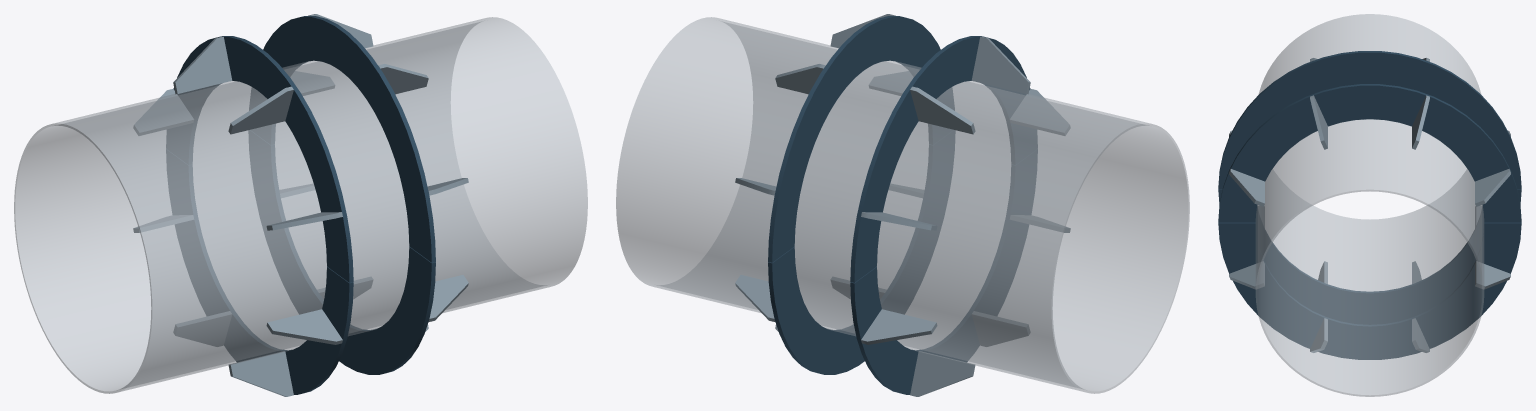
File: TS-666.00.00-17-opora-dn920-D1220.glb
3 views of the same model, side by side, from view 1: azimuth 30°, elevation 25°; view 2: azimuth 150°, elevation 25°; view 3: azimuth 270°, elevation 25° (orthographic). The views are drawn at different scales.
Visible parts, largest first — view 1: truba, polukoltso_1, polukoltso_11, polukoltso_16, polukoltso_6, rebro_8, rebro_18, rebro_17, rebro_7, rebro_9, rebro_19, rebro_12 (+3 smaller); view 2: truba, polukoltso_1, polukoltso_11, polukoltso_16, polukoltso_6, rebro_9, rebro_19, rebro_20, rebro_10, rebro_8, rebro_18, rebro_15 (+3 smaller); view 3: truba, polukoltso_1, polukoltso_11, polukoltso_6, polukoltso_16, rebro_2, rebro_5, rebro_12, rebro_15, rebro_3, rebro_4, rebro_13 (+1 smaller).
Part boxes in pixels (x1,y1,x2,y2): truba: (14, 17, 587, 393); polukoltso_1: (249, 16, 435, 262); polukoltso_11: (248, 130, 435, 374); polukoltso_16: (166, 149, 353, 394); polukoltso_6: (166, 36, 353, 282); rebro_8: (173, 36, 232, 94); rebro_18: (228, 351, 293, 396); rebro_17: (266, 309, 342, 344); rebro_7: (133, 88, 193, 135); rebro_9: (228, 86, 293, 134); rebro_19: (173, 311, 231, 346); rebro_12: (428, 275, 468, 322); truba: (616, 17, 1189, 393); polukoltso_1: (768, 16, 954, 262); polukoltso_11: (768, 130, 955, 374); polukoltso_16: (850, 149, 1037, 394); polukoltso_6: (850, 36, 1037, 282); rebro_9: (971, 36, 1030, 94); rebro_19: (910, 351, 975, 396); rebro_20: (861, 309, 937, 344); rebro_10: (1010, 88, 1070, 135); rebro_8: (910, 86, 975, 134); rebro_18: (972, 311, 1030, 346); rebro_15: (735, 275, 775, 322); truba: (1255, 14, 1484, 396); polukoltso_1: (1218, 84, 1521, 222); polukoltso_11: (1218, 222, 1521, 359); polukoltso_6: (1218, 51, 1521, 189); polukoltso_16: (1218, 189, 1521, 324); rebro_2: (1475, 169, 1510, 206); rebro_5: (1229, 169, 1264, 206); rebro_12: (1229, 261, 1264, 289); rebro_15: (1475, 261, 1510, 289); rebro_3: (1412, 95, 1429, 149); rebro_4: (1310, 95, 1327, 149); rebro_13: (1310, 318, 1327, 352).
Bounding box in the file's own units: 1672 × 1218 × 1220.
